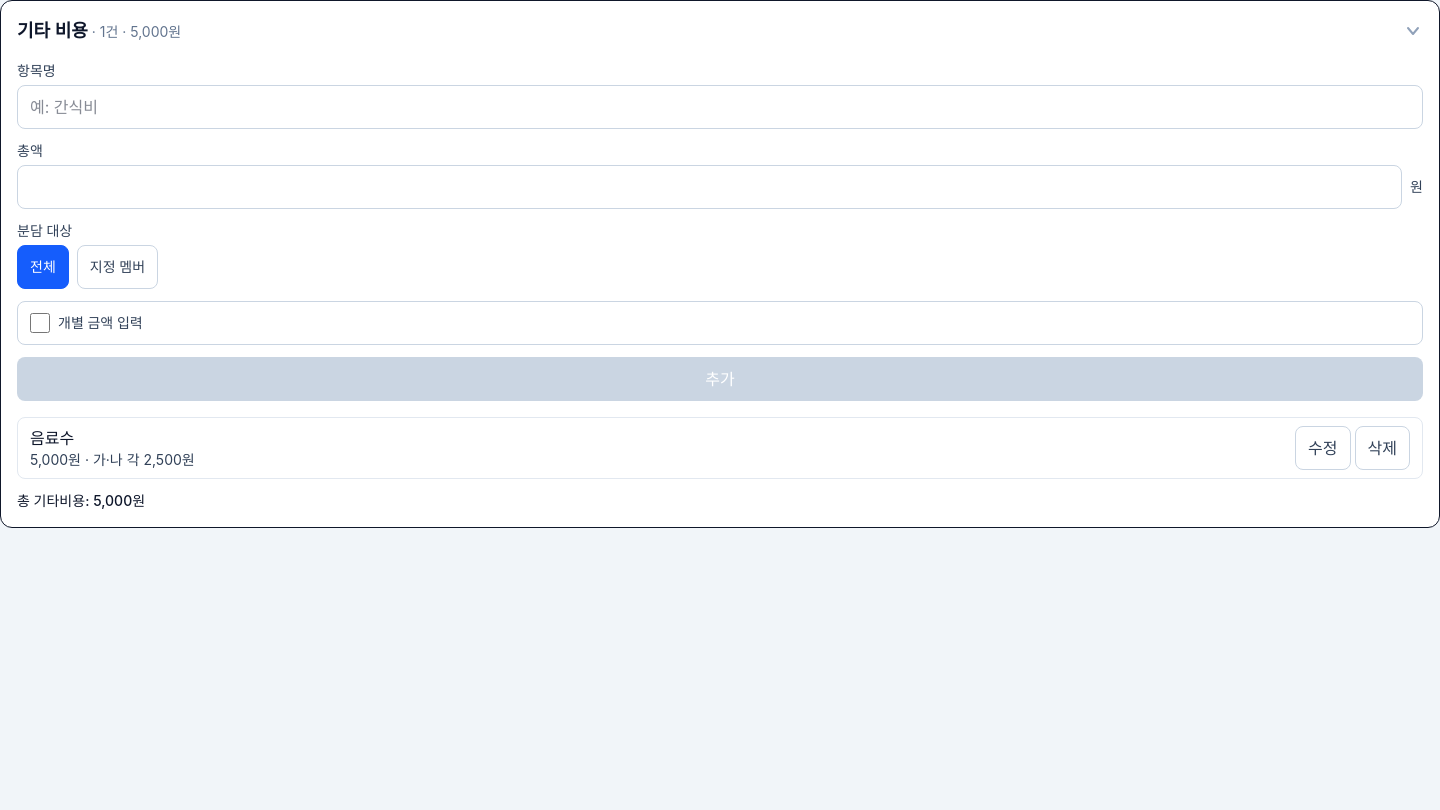
Scenario: ExtraCosts › 추가한 항목 수정 › 수정을 누르면 사람별 금액 입력칸이 열리고 고친 값이 저장된다
Expected: the field labelled "음료수 · 가 금액" is not shown
Click the button with aria-label "음료수 금액 수정".
click(1323, 448)  # box [1295,426,1351,470]
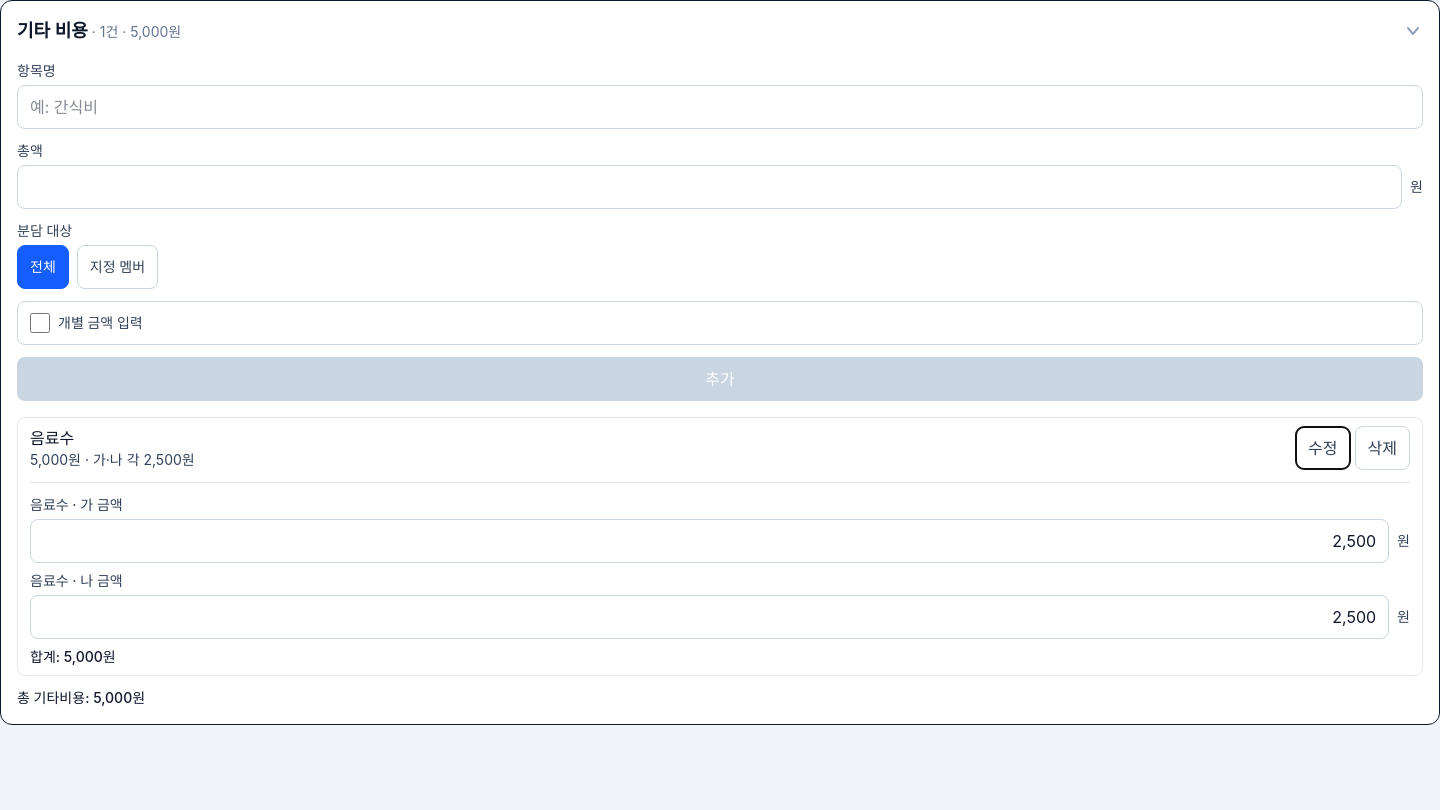
Replace the text in the field labelled "음료수 · 가 금액" with "2000" at (710, 541), box [30,519,1389,563]
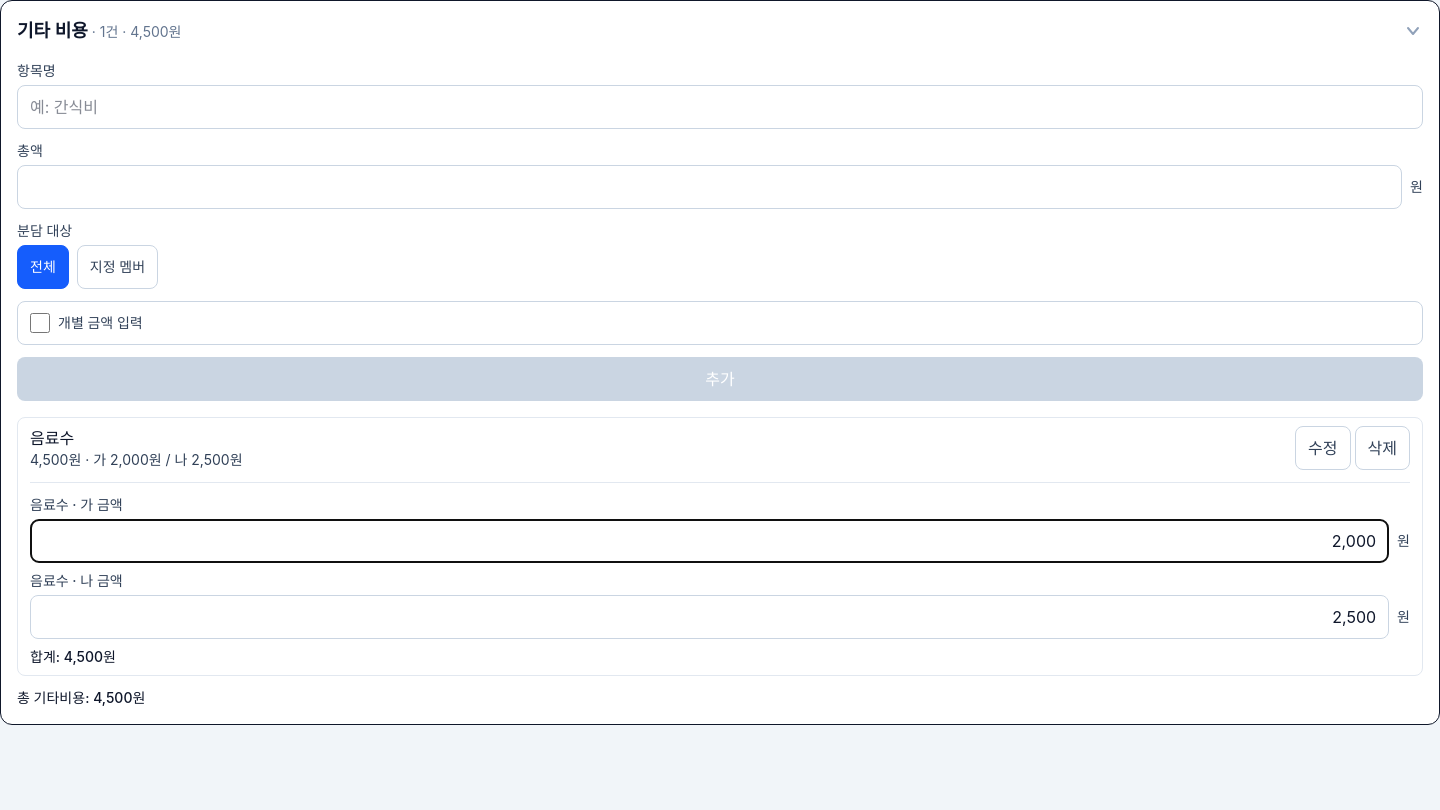
Expected: the text "4,500원 · 가 2,000원 / 나 2,500원" is shown, [30,451,243,468]
